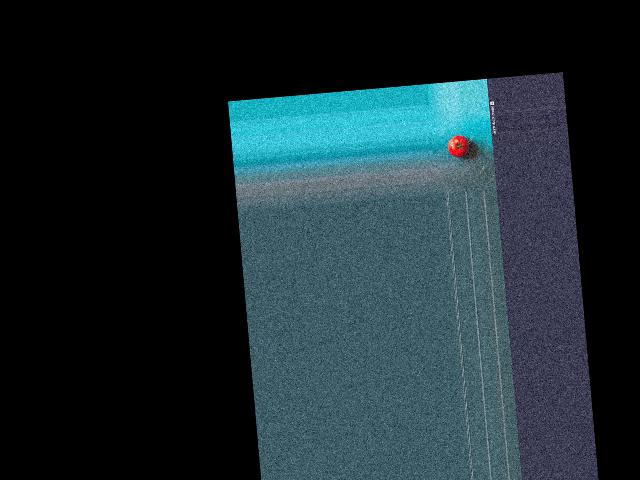tomato: (447, 135, 470, 158)
